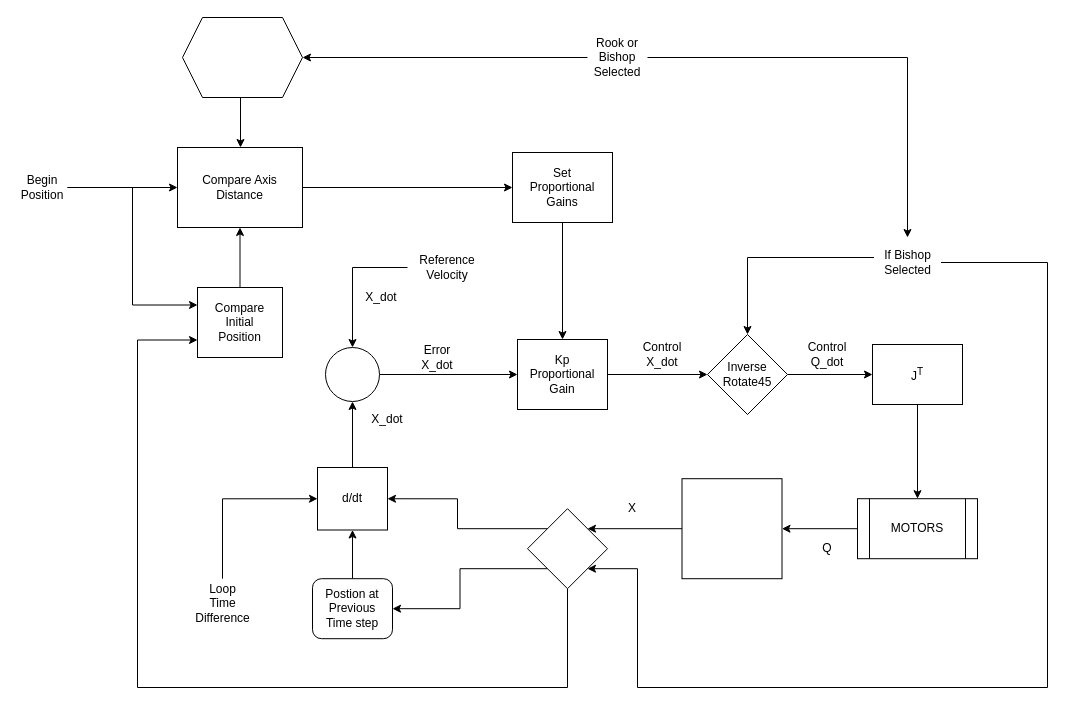
Some shapes in this 1073 by 713 pixel diagram are drawn without their labels. Here are the shapes that lost their labels. From the top down, the centre of each, then its label:
the point at 242,57: Control Behaviour
the point at 352,374: + Sum -
the point at 567,548: Rotate45
the point at 731,528: Forward Kinematics
